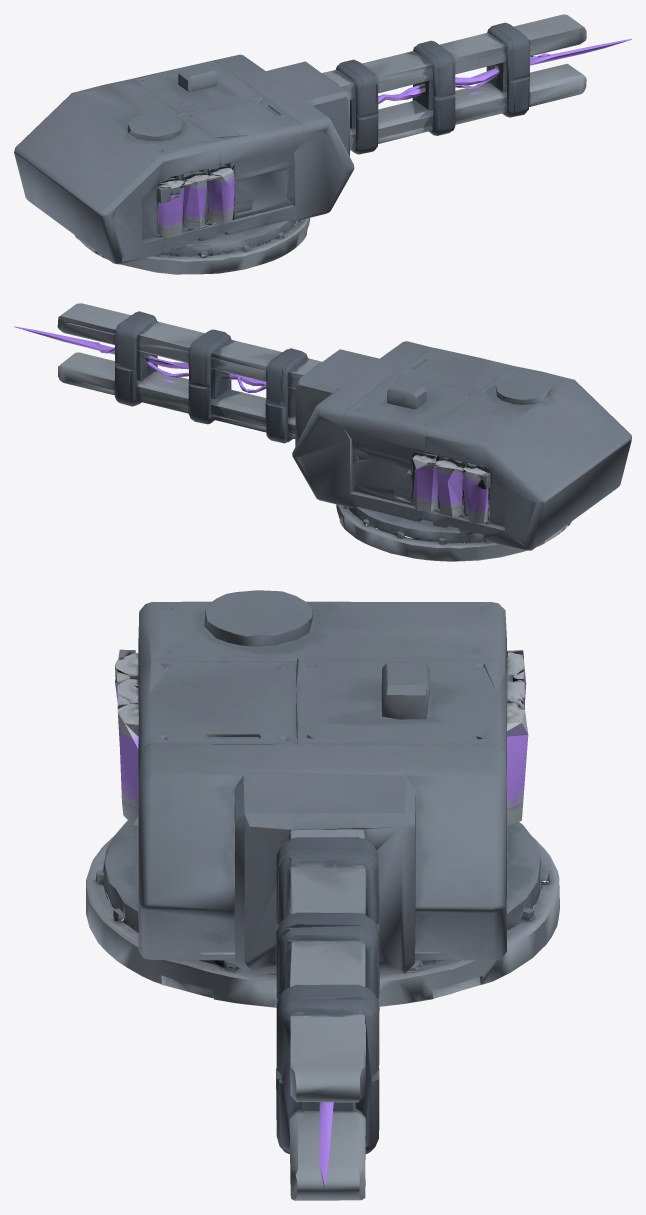
The model's file is weapon-siege-1-light.glb.
3 renders of one model, top to bottom at view 1: azimuth 30°, elevation 25°; view 2: azimuth 150°, elevation 25°; view 3: azimuth 270°, elevation 25°, orthographic. The views are drawn at different scales.
Visible parts, largest first — view 1: weapon-siege-1-light; view 2: weapon-siege-1-light; view 3: weapon-siege-1-light.
Part boxes in pixels (x1,y1,x2,y2): weapon-siege-1-light: (14, 14, 631, 274); weapon-siege-1-light: (14, 303, 631, 561); weapon-siege-1-light: (86, 590, 559, 1200).
Bounding box in the file's own units: 2.6 × 0.579 × 0.9302.
Materials: 1 (1 with a texture image).
